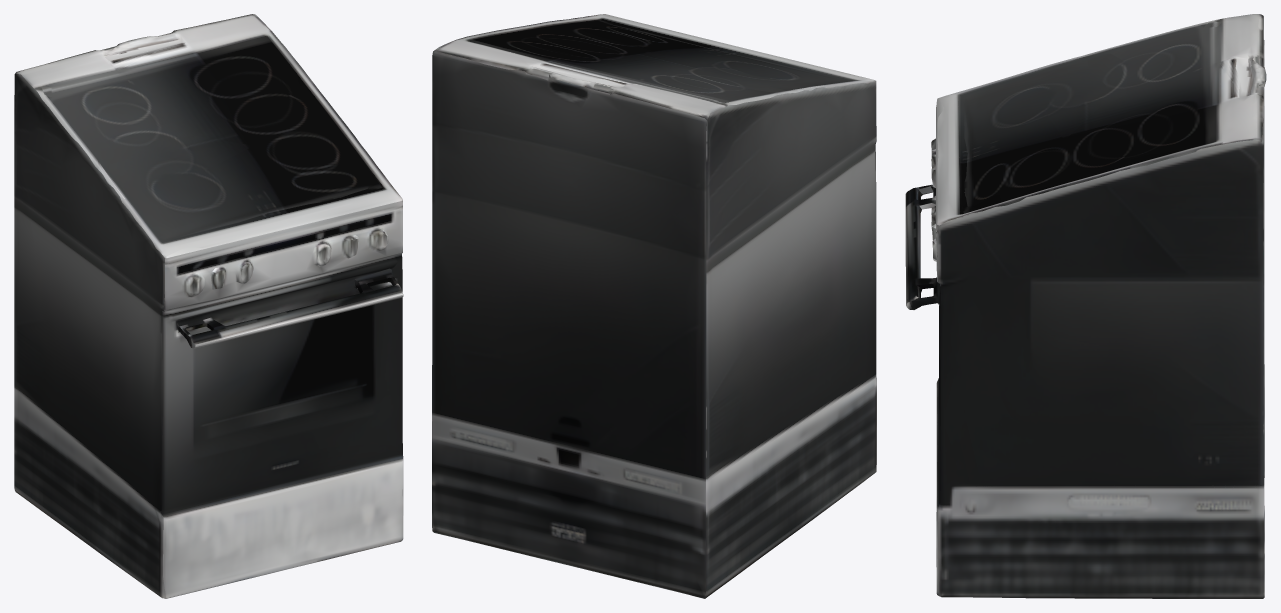
The model's file is Cuisiniere1_3D_textured.glb.
3 views of the same model, side by side, from view 1: azimuth 30°, elevation 25°; view 2: azimuth 150°, elevation 25°; view 3: azimuth 270°, elevation 25° (orthographic). The views are drawn at different scales.
Parts seen in each view (by area): view 1: temp_mesh.ply; view 2: temp_mesh.ply; view 3: temp_mesh.ply.
Boxes of the visible parts, x1,y1,x2,y2 form: temp_mesh.ply: (14, 14, 403, 598); temp_mesh.ply: (432, 14, 876, 598); temp_mesh.ply: (905, 14, 1266, 598).
Size of the model in its own units: 1.18 by 1.97 by 1.4.
1 material, 1 textured.
